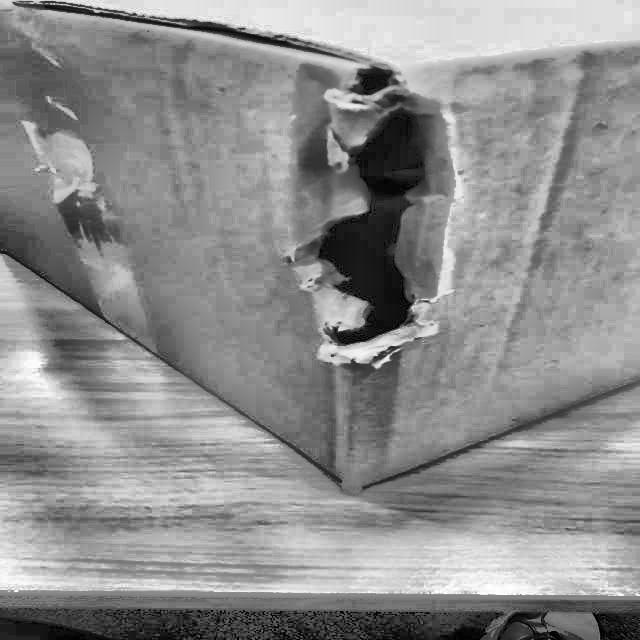box: (0, 0, 639, 512)
hole: (281, 45, 471, 369)
